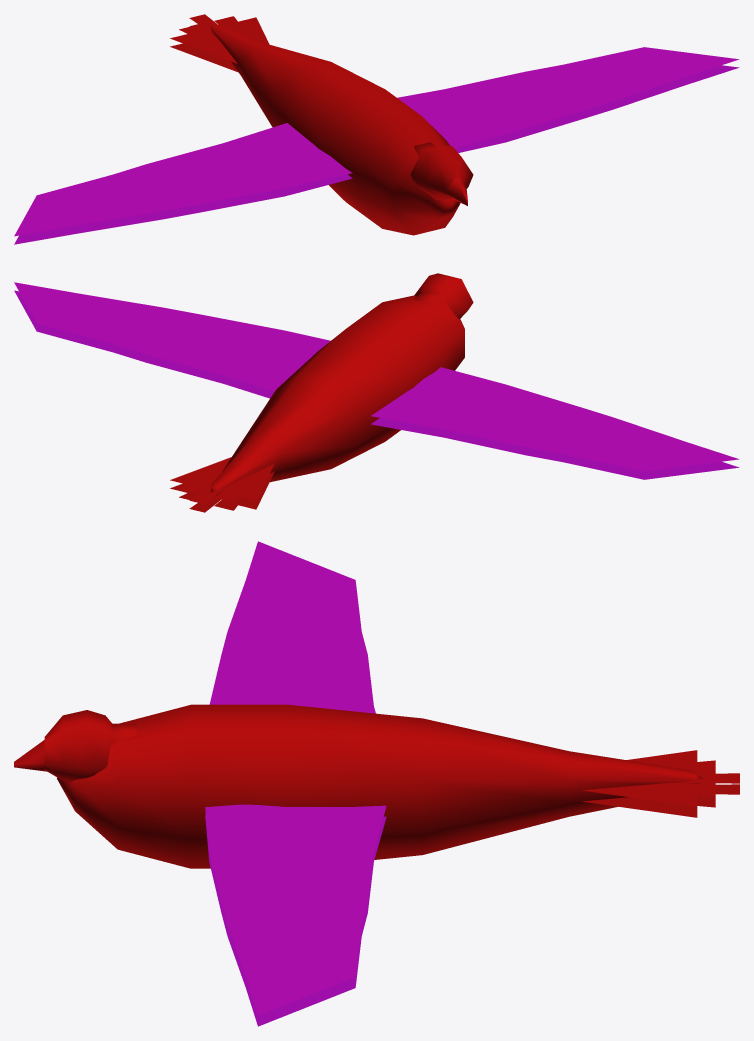
Rendered from longtail.glb.
3 views of the same model, one above another, from view 1: azimuth 30°, elevation 25°; view 2: azimuth 150°, elevation 25°; view 3: azimuth 270°, elevation 25° (orthographic). The views are drawn at different scales.
Visible parts, largest first — view 1: bird; view 2: bird; view 3: bird.
Boxes of the visible parts, x1,y1,x2,y2 form: bird: (14, 14, 739, 244); bird: (14, 273, 739, 512); bird: (14, 541, 739, 1026).
Bounding box in the file's own units: 0.7188 × 0.0977 × 0.4648.
